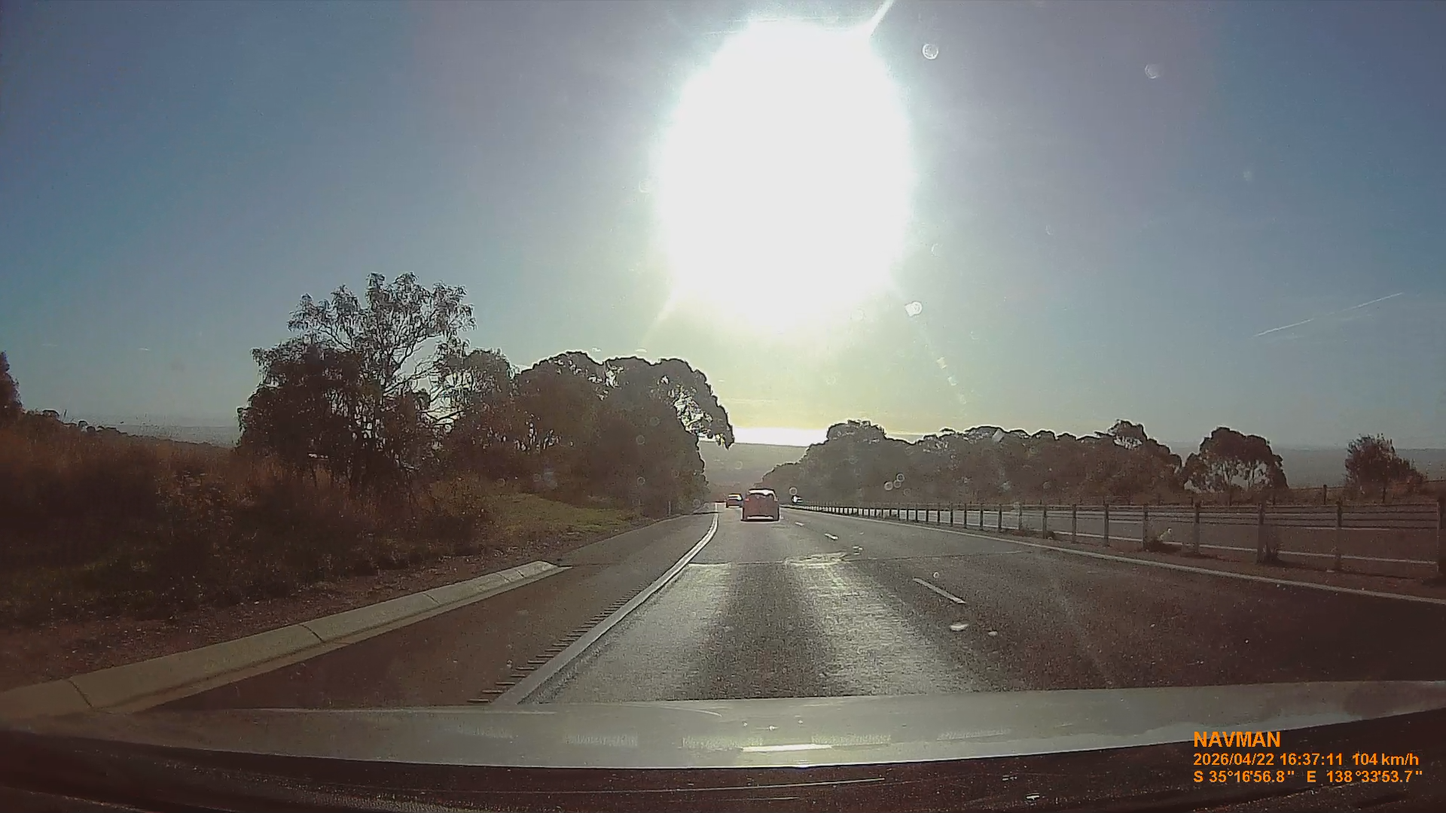fences: (813, 505, 1445, 555)
